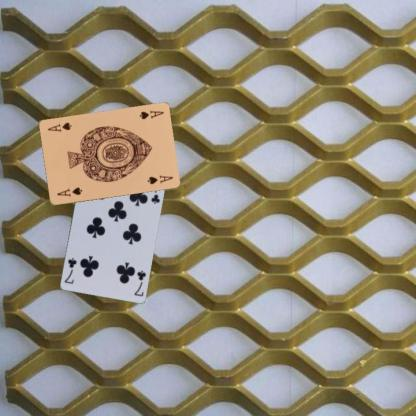7c: (131, 267, 147, 297)
As: (54, 185, 84, 198), (136, 108, 165, 121)
